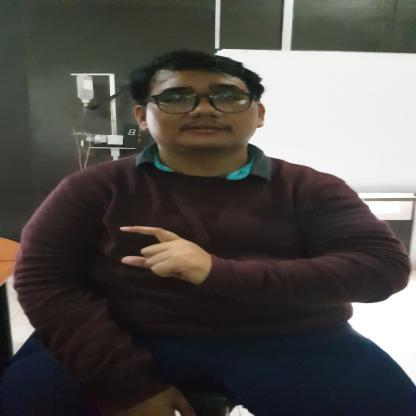C: (118, 226, 212, 280)
